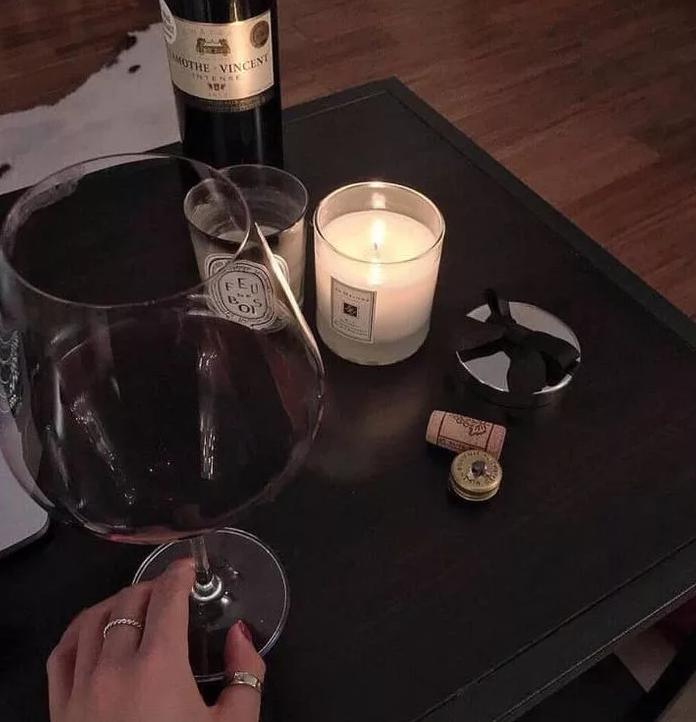wine bottle: (160, 0, 287, 210)
wine label: (163, 6, 277, 114)
